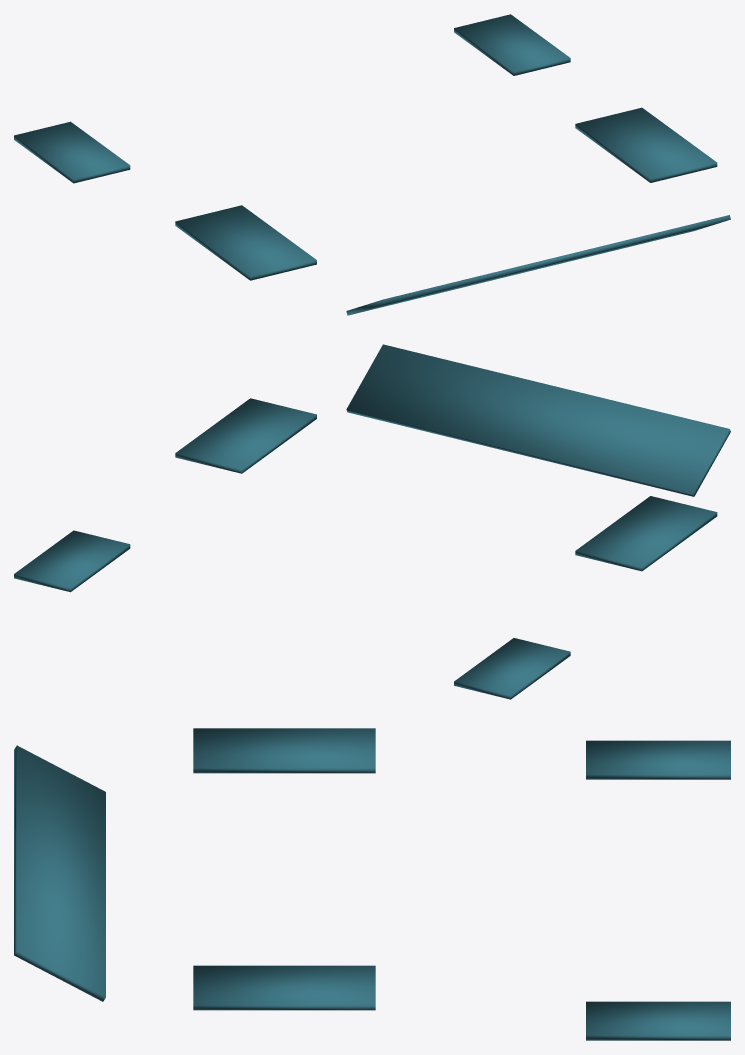
The model's file is apc_glass.obj.
3 renders of one model, top to bottom at view 1: azimuth 30°, elevation 25°; view 2: azimuth 150°, elevation 25°; view 3: azimuth 270°, elevation 25°, orthographic. The views are drawn at different scales.
Parts seen in each view (by area): view 1: apc_glass; view 2: apc_glass; view 3: apc_glass.
Boxes of the visible parts, x1,y1,x2,y2 form: apc_glass: [14, 14, 730, 315]; apc_glass: [14, 344, 730, 699]; apc_glass: [14, 728, 730, 1040].
Size of the model in its own units: 2.98 by 0.2417 by 3.07.
